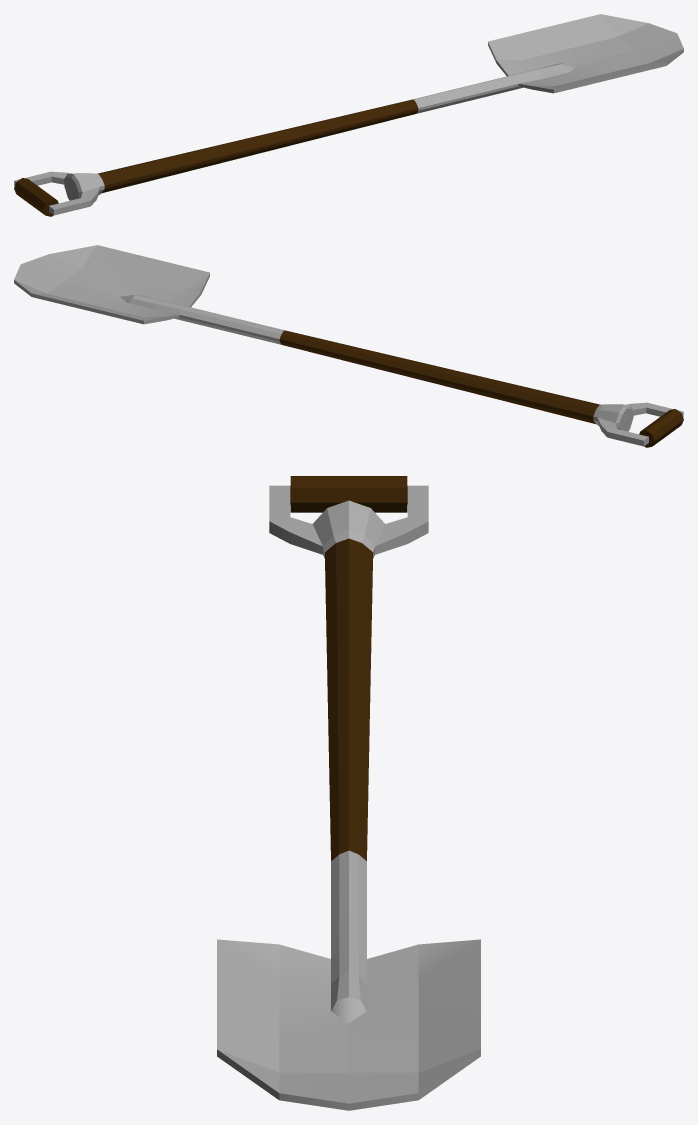
Rendered from Shovel.fbx.
3 views of the same model, one above another, from view 1: azimuth 30°, elevation 25°; view 2: azimuth 150°, elevation 25°; view 3: azimuth 270°, elevation 25° (orthographic). The views are drawn at different scales.
Parts seen in each view (by area): view 1: Shovel; view 2: Shovel; view 3: Shovel.
Part boxes in pixels (x1,y1,x2,y2): Shovel: (14, 14, 683, 216); Shovel: (14, 245, 683, 447); Shovel: (217, 476, 480, 1110).
Size of the model in its own units: 83.17 by 3.95 by 14.66.
